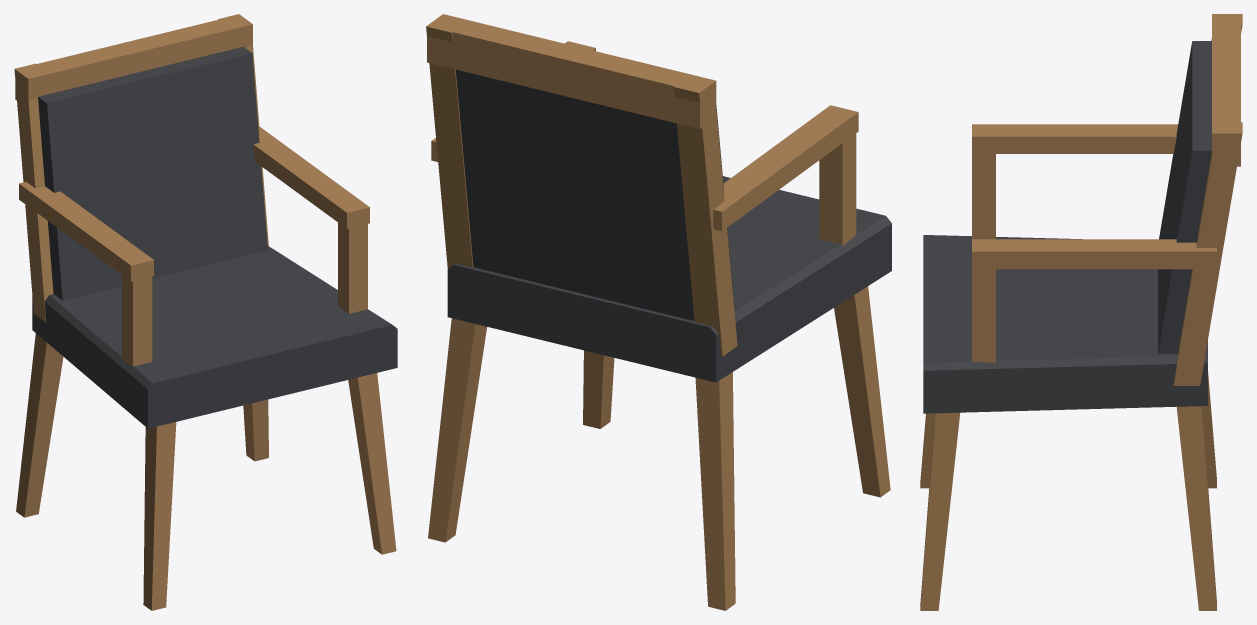
File: FN_Chair_Dining_Arm.glb
3 views of the same model, side by side, from view 1: azimuth 30°, elevation 25°; view 2: azimuth 150°, elevation 25°; view 3: azimuth 270°, elevation 25° (orthographic). The views are drawn at different scales.
Parts seen in each view (by area): view 1: FN_Chair_Dining_Arm; view 2: FN_Chair_Dining_Arm; view 3: FN_Chair_Dining_Arm.
Part boxes in pixels (<box>): FN_Chair_Dining_Arm: <box>14,14,397,610</box>; FN_Chair_Dining_Arm: <box>426,14,891,610</box>; FN_Chair_Dining_Arm: <box>920,14,1242,610</box>.
Size of the model in its own units: 0.52 by 0.86 by 0.532.
1 material, 1 textured.
